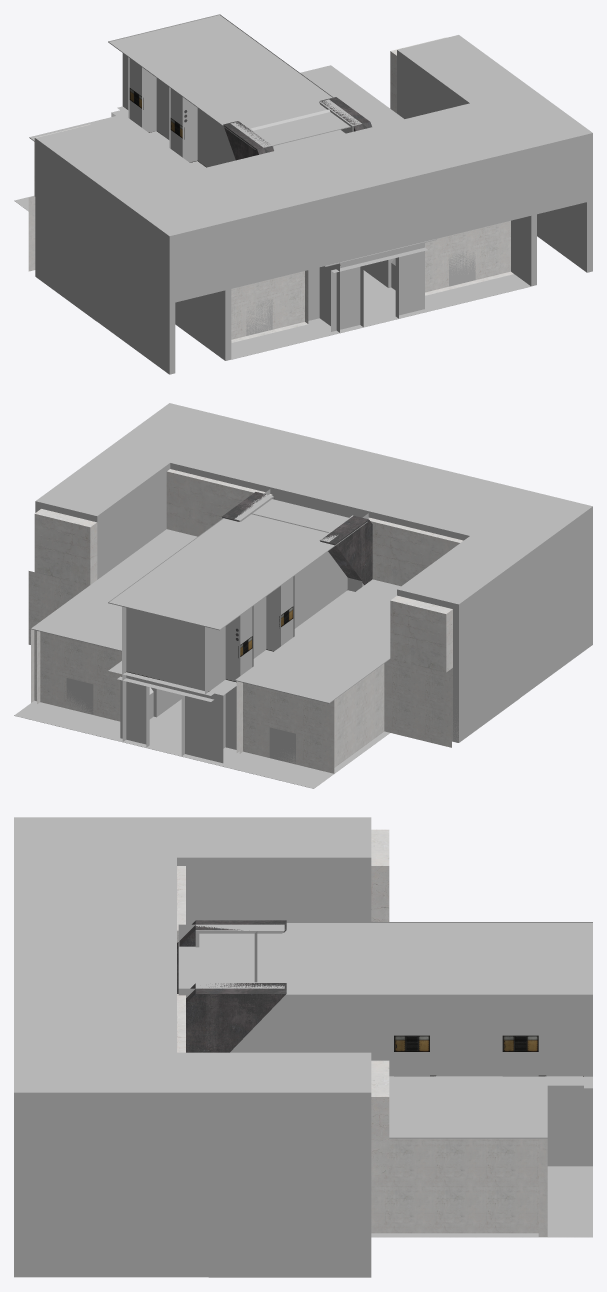
The model's file is LC_cont2_scps.obj.
3 views of the same model, one above another, from view 1: azimuth 30°, elevation 25°; view 2: azimuth 150°, elevation 25°; view 3: azimuth 270°, elevation 25° (orthographic). The views are drawn at different scales.
Parts seen in each view (by area): view 1: LC_cont2_scps; view 2: LC_cont2_scps; view 3: LC_cont2_scps.
Part boxes in pixels (<box>): LC_cont2_scps: <box>14,14,592,374</box>; LC_cont2_scps: <box>14,403,592,788</box>; LC_cont2_scps: <box>14,817,592,1277</box>.
Size of the model in its own units: 22.5 by 7.04 by 20.
